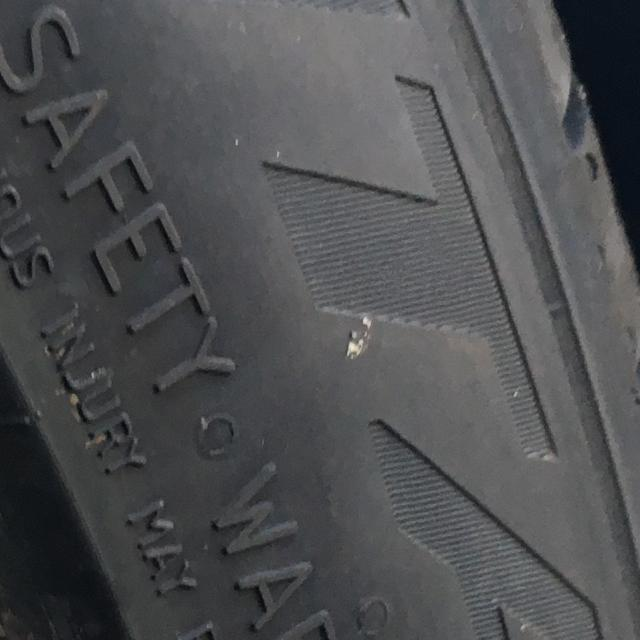Non-defective: (0, 0, 639, 639)
